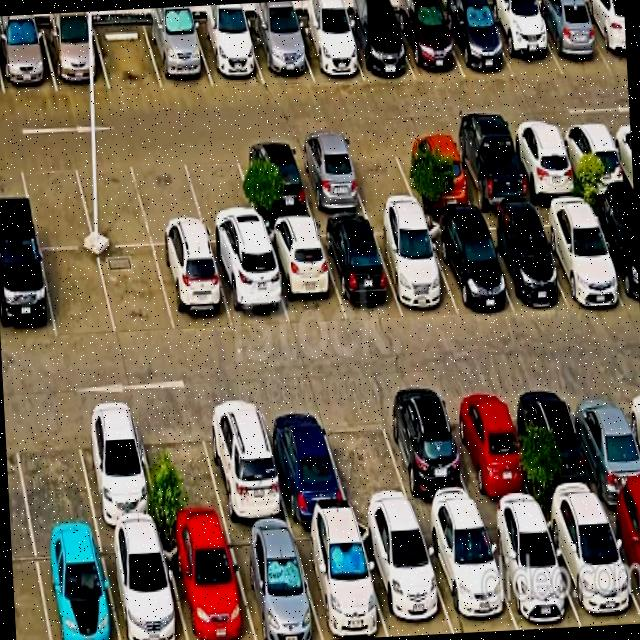empty: (319, 398, 415, 517), (136, 407, 227, 530), (11, 410, 97, 537), (182, 145, 262, 243), (73, 153, 152, 247), (131, 151, 207, 245), (19, 154, 94, 248), (98, 246, 175, 336), (41, 249, 116, 339), (341, 138, 418, 213), (94, 22, 162, 90)
occupied: (377, 392, 479, 518), (542, 504, 640, 627), (480, 512, 581, 630), (442, 388, 537, 513), (198, 399, 290, 526), (419, 515, 517, 633), (292, 522, 388, 640), (357, 521, 453, 637), (259, 401, 350, 522), (514, 384, 602, 509), (226, 527, 323, 640), (73, 408, 161, 532), (161, 529, 255, 640), (100, 531, 187, 640), (534, 204, 626, 306), (34, 535, 119, 640), (424, 217, 514, 316), (566, 383, 640, 503), (477, 213, 567, 311), (317, 220, 402, 320), (371, 219, 459, 315), (263, 224, 345, 327), (154, 244, 233, 333), (210, 242, 289, 328), (449, 130, 531, 210), (235, 143, 314, 223), (291, 140, 368, 218), (485, 5, 563, 80), (396, 134, 474, 208), (530, 4, 611, 75), (507, 125, 582, 201), (557, 122, 631, 196), (588, 203, 640, 308), (0, 246, 56, 343), (441, 6, 514, 79), (393, 6, 464, 81), (342, 12, 415, 81), (193, 21, 265, 87), (144, 21, 213, 88), (42, 24, 109, 92), (293, 18, 364, 82), (602, 500, 640, 613), (247, 20, 313, 84), (0, 27, 57, 95), (580, 1, 627, 72)
